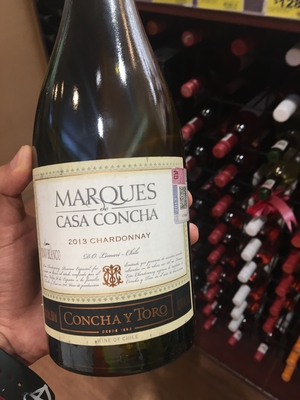marques de casa concha chardonnay: (22, 20, 205, 352)
